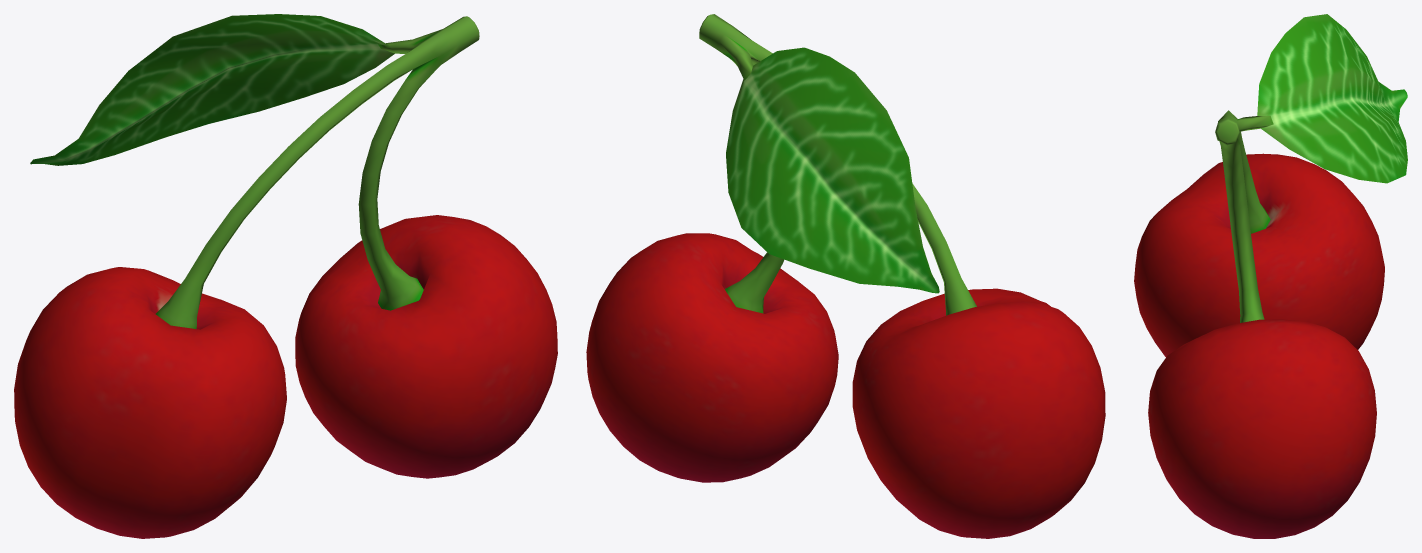
File: cherry_final.glb
3 renders of one model, left to right at view 1: azimuth 30°, elevation 25°; view 2: azimuth 150°, elevation 25°; view 3: azimuth 270°, elevation 25°, orthographic. The views are drawn at different scales.
Parts seen in each view (by area): view 1: cherry; view 2: cherry; view 3: cherry.
Boxes of the visible parts, bbox=[...] form: cherry: bbox=[14, 14, 557, 538]; cherry: bbox=[586, 14, 1105, 538]; cherry: bbox=[1134, 14, 1407, 538].
Bounding box in the file's own units: 1.1 × 0.9765 × 0.5582.
Materials: 1 (1 with a texture image).
